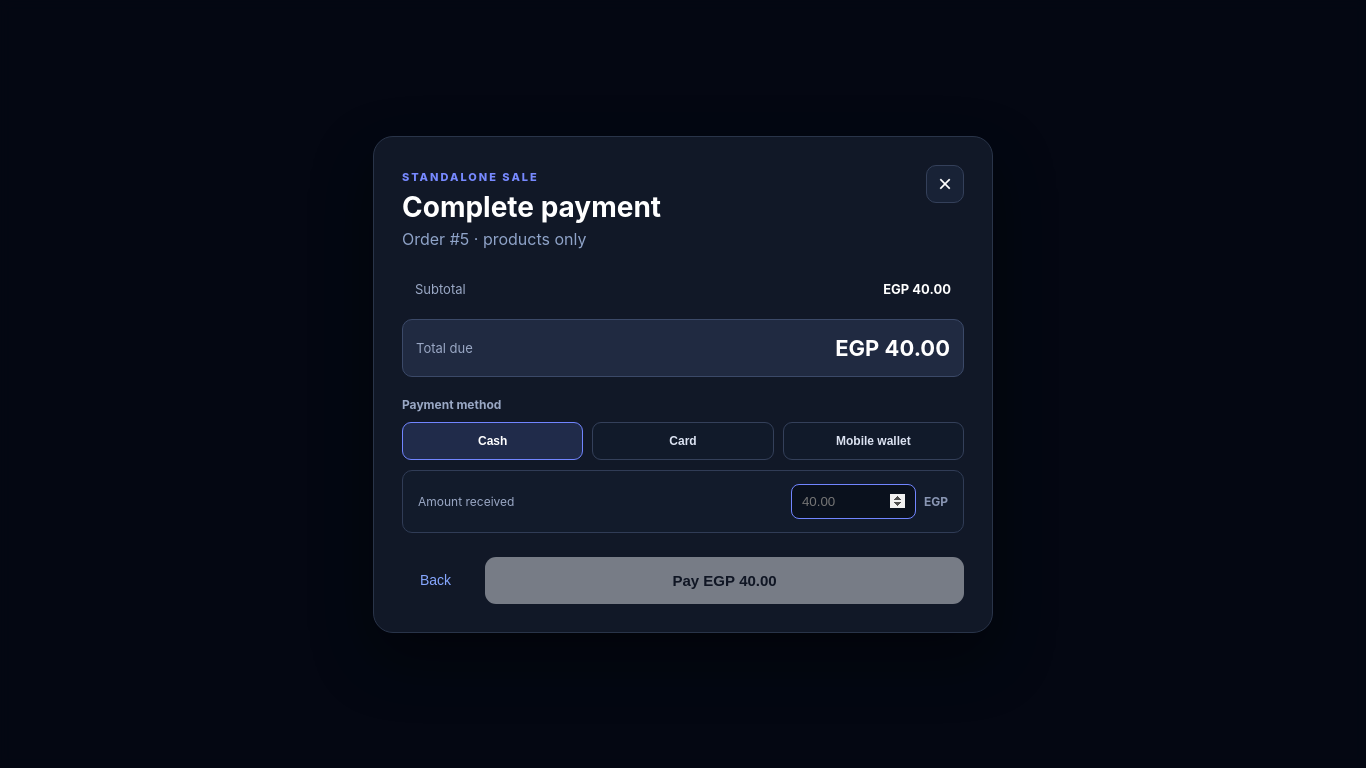
Scenario: POSPaymentModal › keeps cash payment disabled until the amount received covers the total
Expected: the button "Pay EGP 40.00" is disabled, top-left (485, 556), bottom-right (964, 604)
Type "40" into the number field labelled "Amount received" at (853, 501), box top-left (791, 484), bottom-right (916, 518)
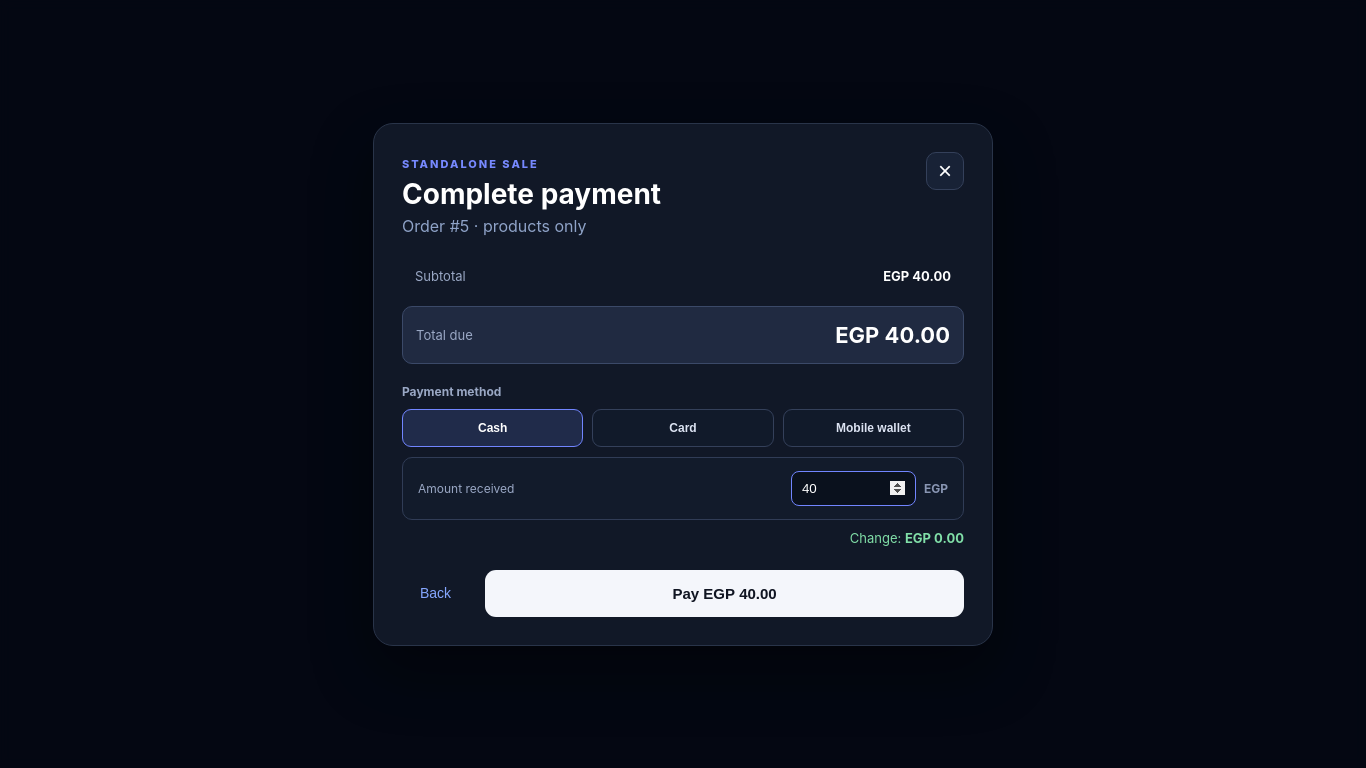
Result: the button "Pay EGP 40.00" is enabled at top-left (485, 570), bottom-right (964, 616)
